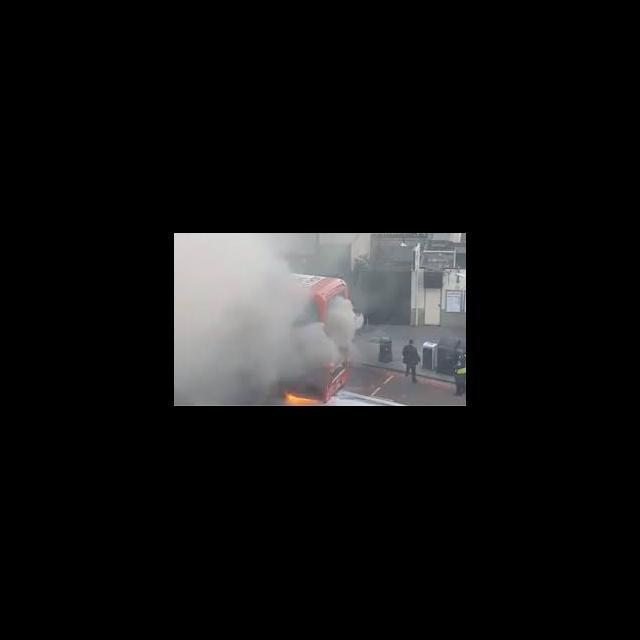Fire: (280, 392, 324, 406)
Smoke: (175, 234, 364, 392)
